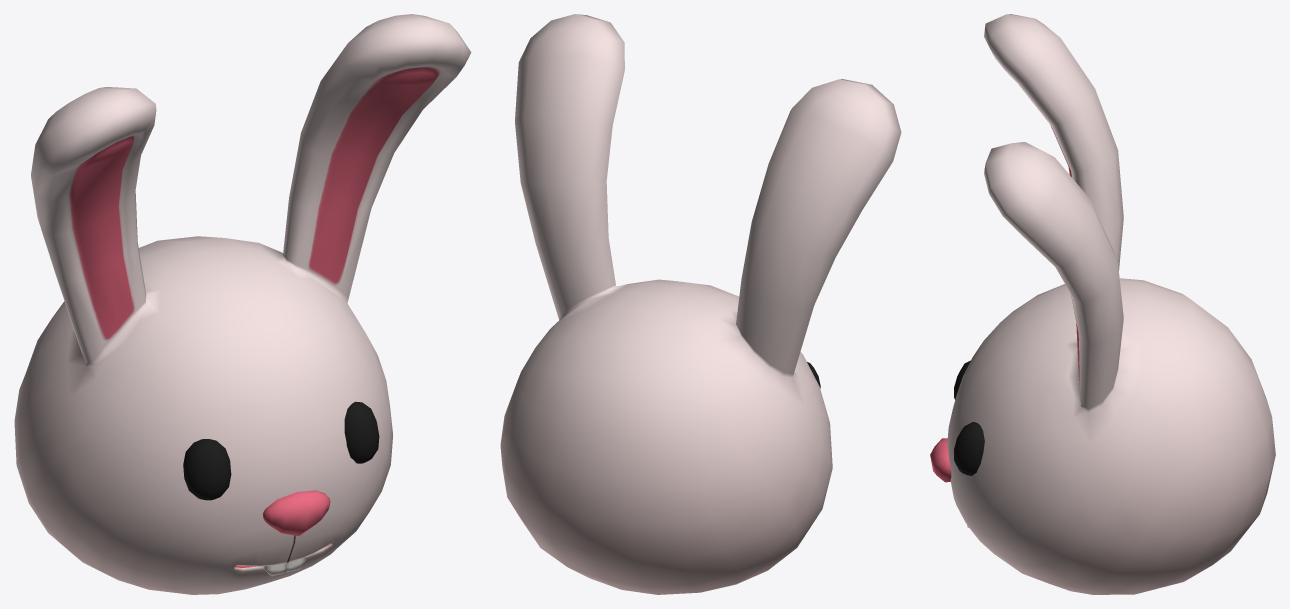
The model's file is RabbitHead.FBX.
3 views of the same model, side by side, from view 1: azimuth 30°, elevation 25°; view 2: azimuth 150°, elevation 25°; view 3: azimuth 270°, elevation 25° (orthographic). The views are drawn at different scales.
Parts seen in each view (by area): view 1: RabbitHead; view 2: RabbitHead; view 3: RabbitHead.
Part boxes in pixels (<box>): RabbitHead: <box>14,14,471,594</box>; RabbitHead: <box>500,14,901,594</box>; RabbitHead: <box>930,14,1275,594</box>.
Size of the model in its own units: 54.18 by 68.09 by 43.62.
4 materials, 4 textured.
